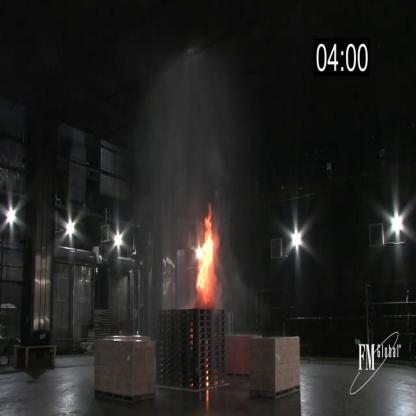fire: (190, 200, 220, 309)
